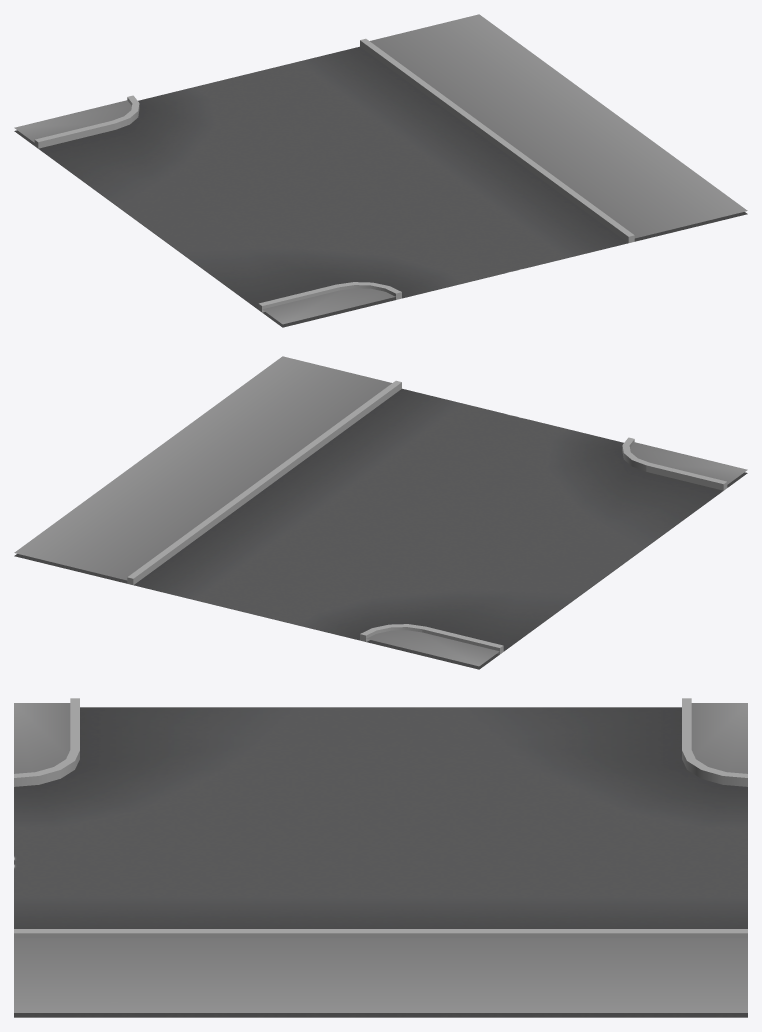
Rendered from road_019.glb.
3 renders of one model, top to bottom at view 1: azimuth 30°, elevation 25°; view 2: azimuth 150°, elevation 25°; view 3: azimuth 270°, elevation 25°, orthographic. The views are drawn at different scales.
Parts seen in each view (by area): view 1: road_019; view 2: road_019; view 3: road_019.
Part boxes in pixels (x1,y1,x2,y2): road_019: (14, 14, 747, 327); road_019: (14, 356, 747, 669); road_019: (14, 698, 747, 1017).
Bounding box in the file's own units: 15 × 0.2 × 15.
2 materials, 2 textured.
